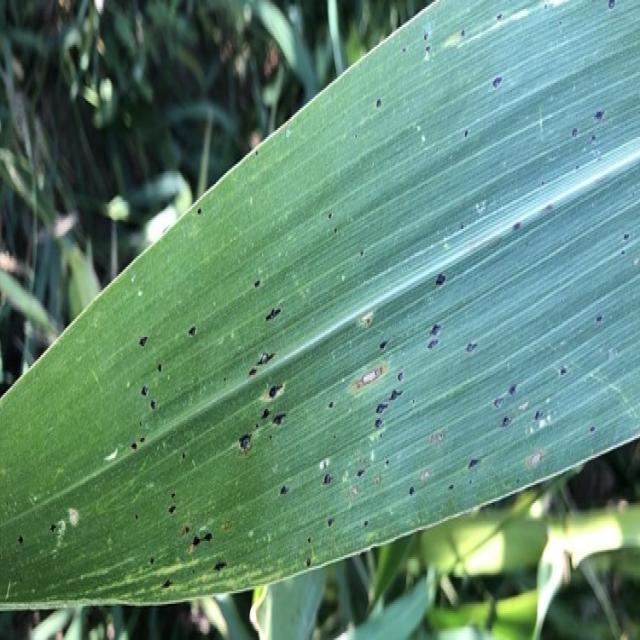Tar_Spot: (115, 296, 351, 578), (426, 222, 542, 483)
